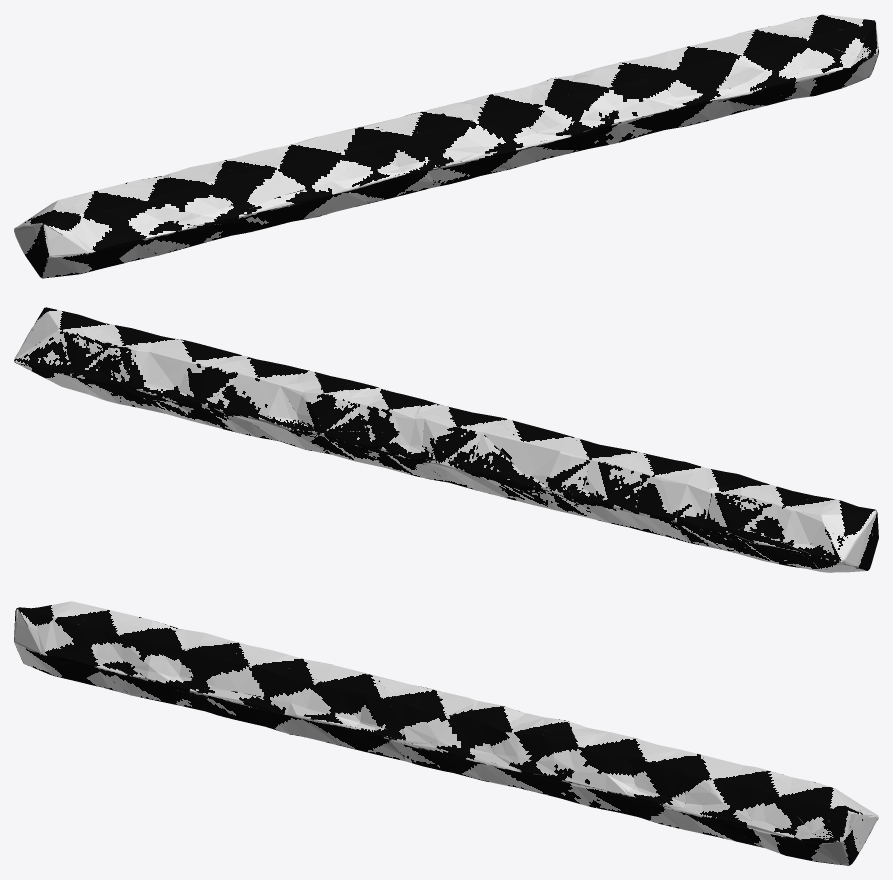
3 views of the same model, one above another, from view 1: azimuth 30°, elevation 25°; view 2: azimuth 150°, elevation 25°; view 3: azimuth 330°, elevation 25° (orthographic).
Parts seen in each view (by area): view 1: OBJ0d8; view 2: OBJ0d8; view 3: OBJ0d8.
Part boxes in pixels (x1,y1,x2,y2): OBJ0d8: (14,14,878,278); OBJ0d8: (14,307,878,572); OBJ0d8: (14,601,878,865).
Size of the model in its own units: 0.4443 by 0.0316 by 0.041.
1 material, 1 textured.
